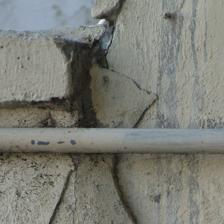Crack: (0, 15, 81, 126), (36, 30, 100, 98), (94, 49, 128, 82)
